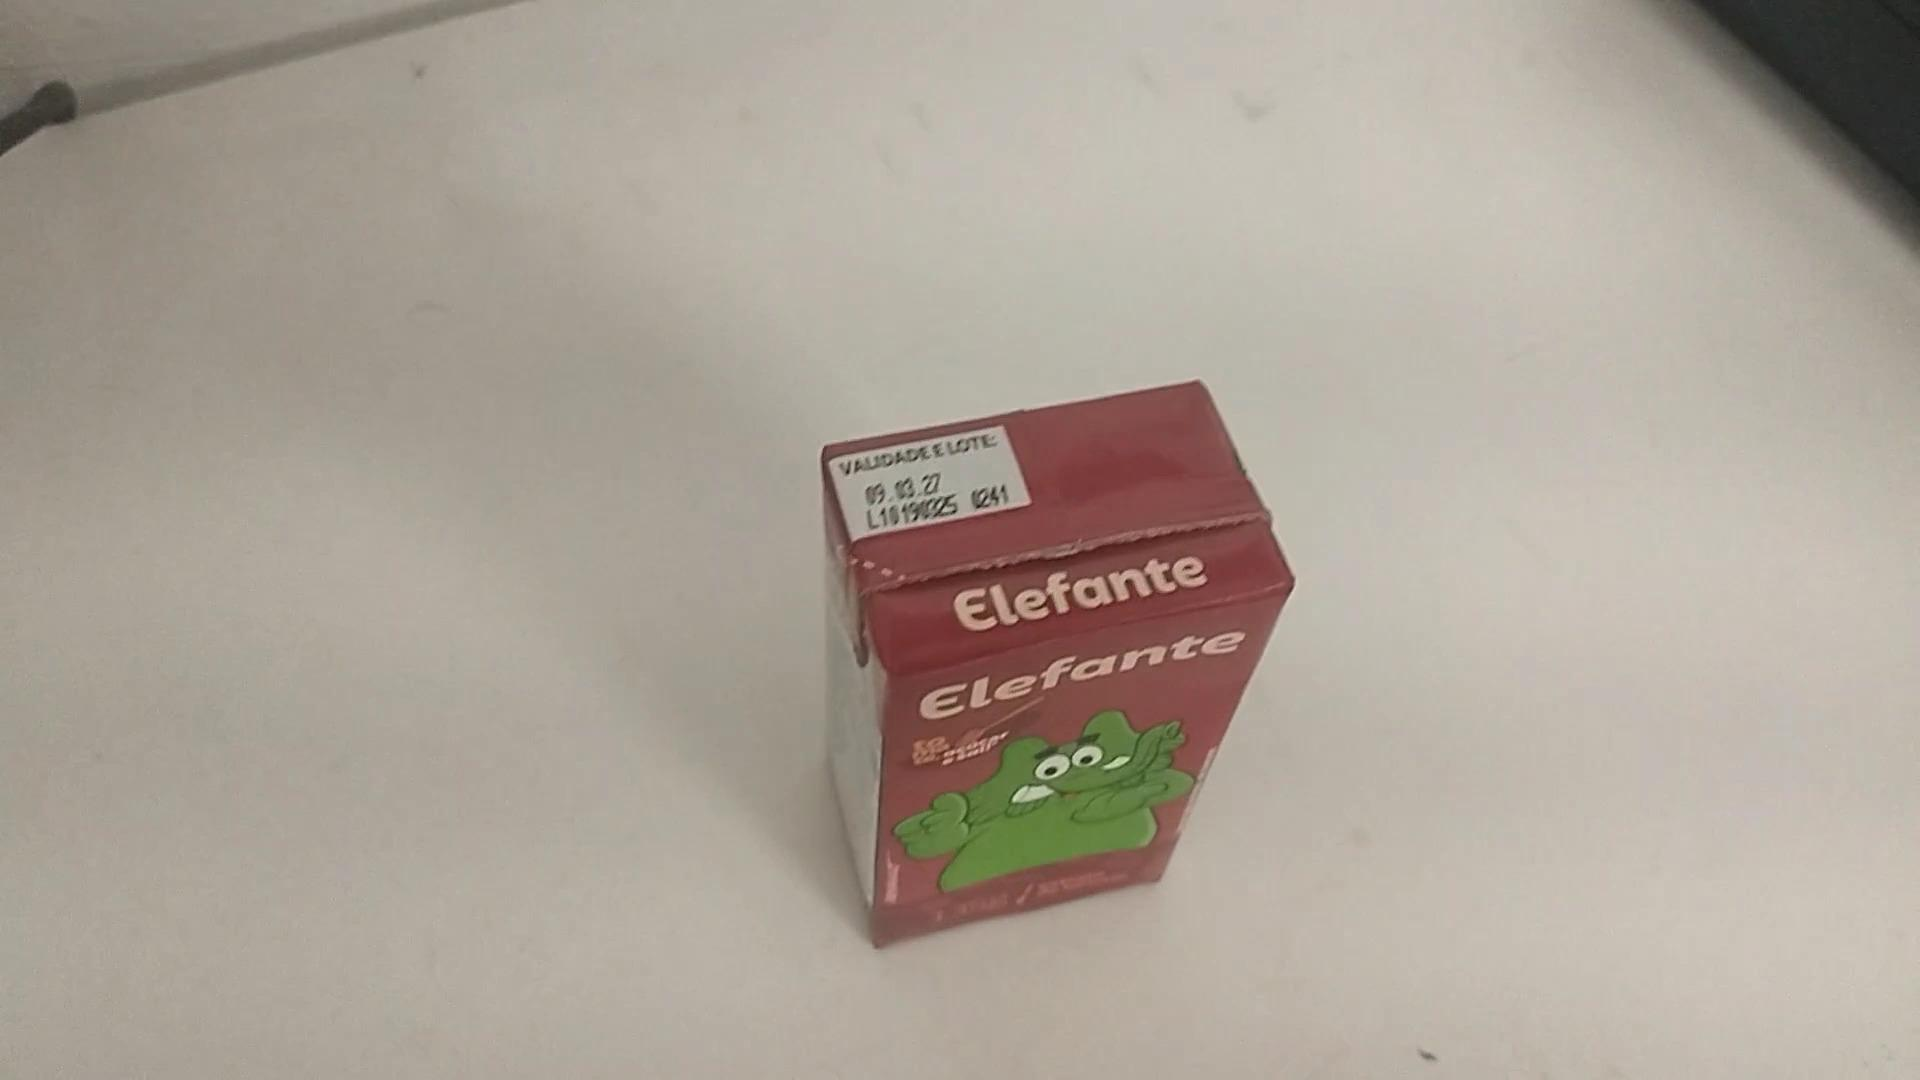tomate: (822, 380, 1299, 951)
